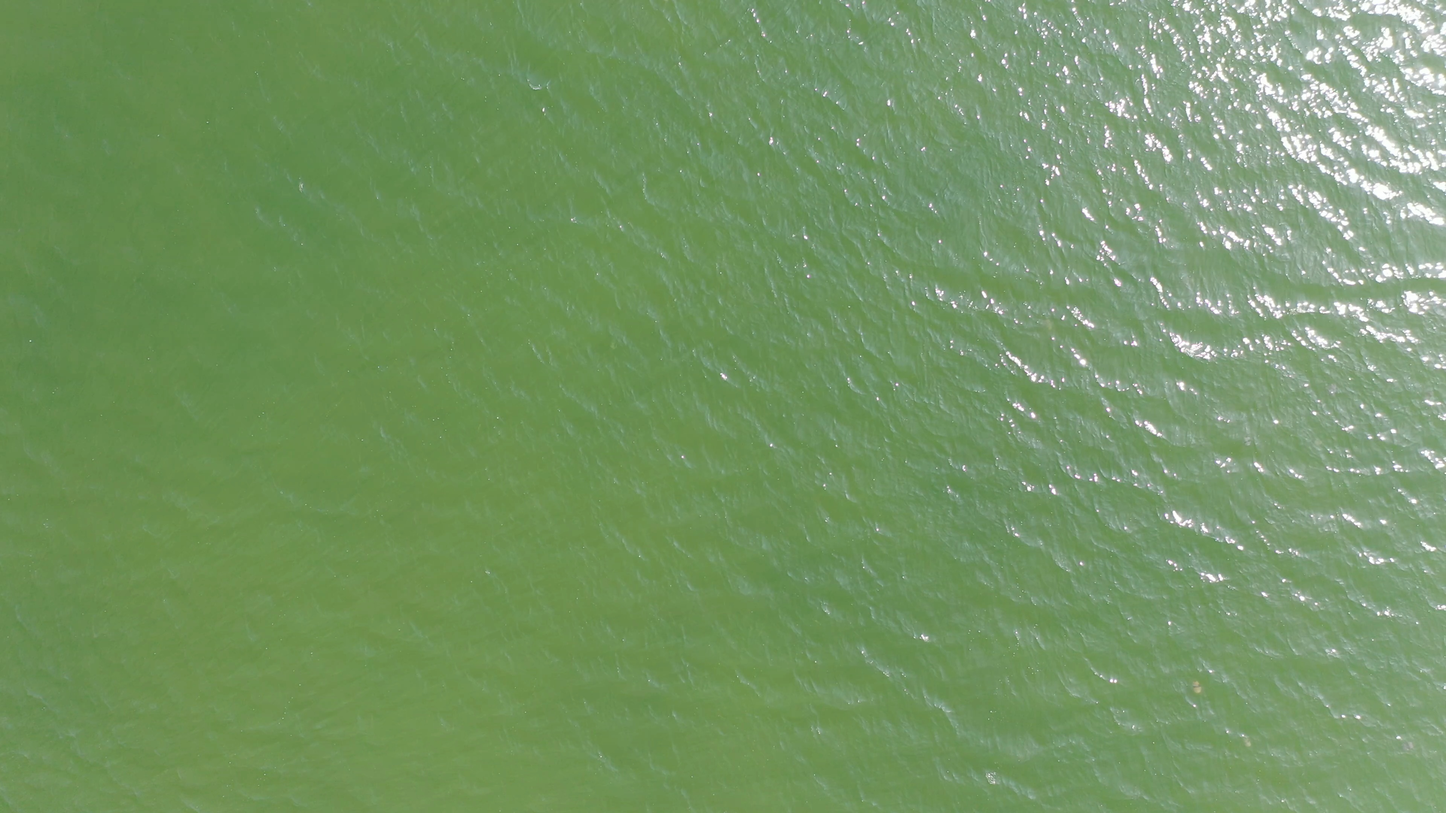meduse: (1193, 682, 1202, 695), (1243, 737, 1252, 747), (609, 341, 616, 349)
